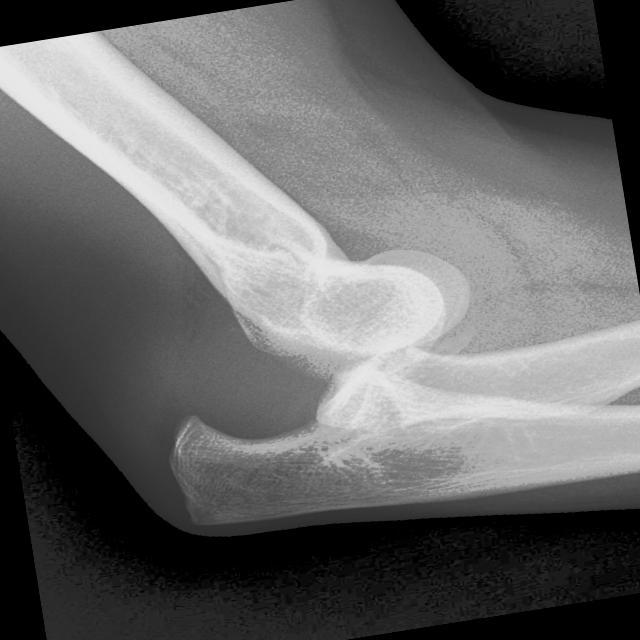Fracture Dislocation: (138, 397, 296, 499)
